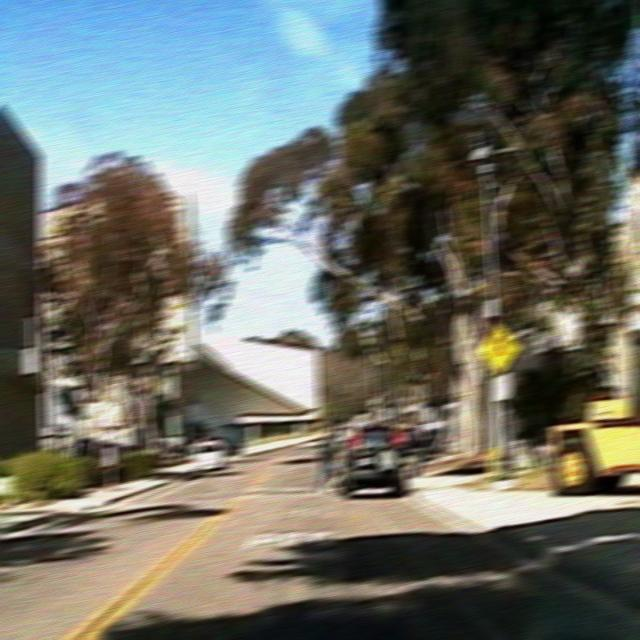pedestrianCrossing: (477, 320, 521, 373)
